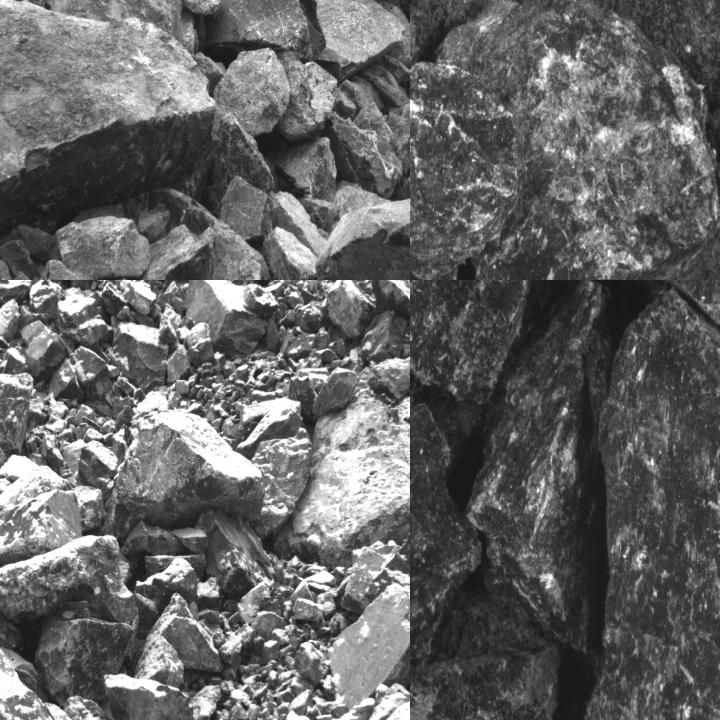stone: (437, 0, 719, 279), (585, 285, 719, 719), (466, 280, 612, 650), (0, 0, 212, 228), (410, 63, 522, 278), (410, 406, 482, 711), (105, 411, 262, 534), (410, 280, 554, 406), (410, 644, 563, 719), (0, 532, 121, 620), (327, 585, 409, 706), (318, 181, 409, 279), (39, 618, 133, 702), (278, 50, 362, 141), (184, 280, 280, 358), (48, 0, 185, 50), (212, 49, 290, 136), (197, 509, 272, 596), (55, 214, 153, 279), (331, 111, 403, 198), (0, 488, 80, 565), (254, 432, 312, 534), (209, 0, 309, 59), (314, 0, 407, 63), (210, 103, 270, 199), (152, 596, 225, 672), (128, 222, 218, 279), (135, 560, 198, 636), (363, 521, 409, 608), (111, 322, 167, 393), (105, 675, 194, 719), (346, 539, 396, 611), (222, 174, 272, 243), (327, 280, 382, 340), (56, 286, 111, 346), (51, 348, 111, 402), (121, 521, 185, 568), (264, 227, 319, 279), (659, 280, 719, 327), (21, 319, 68, 377), (0, 372, 33, 453), (135, 636, 187, 686), (360, 313, 407, 363), (312, 368, 359, 416), (366, 356, 409, 404), (77, 439, 117, 483), (74, 485, 108, 533), (294, 642, 330, 686), (28, 280, 65, 321), (372, 280, 409, 319), (185, 320, 215, 366), (66, 696, 124, 719), (121, 282, 157, 314), (170, 528, 210, 554), (286, 330, 320, 359), (167, 346, 191, 384), (0, 298, 21, 341), (0, 280, 31, 309), (292, 599, 323, 621), (159, 315, 176, 344), (160, 280, 202, 289)
